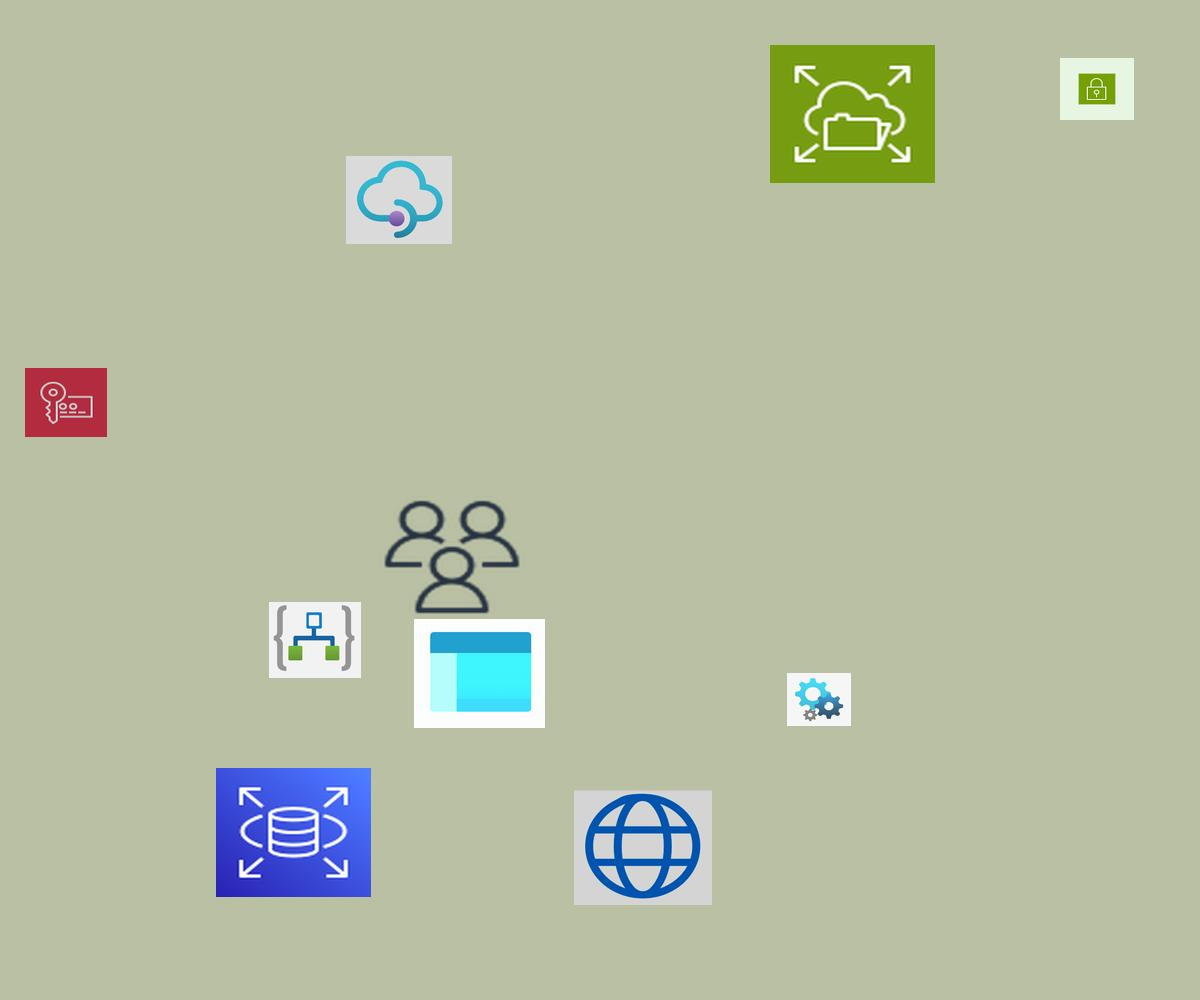AWS-EFS: (770, 45, 935, 183)
AWS-Key-Management-Service: (25, 368, 107, 437)
AWS-Public-subnet: (1060, 58, 1134, 120)
AWS-RDS: (216, 768, 371, 897)
AWS-Res_Users: (379, 496, 525, 618)
Azure_api: (787, 673, 851, 726)
Azure_api_gateway: (346, 156, 452, 244)
Azure_http: (574, 790, 712, 905)
Azure_integration-204-Logic-Apps: (269, 602, 361, 678)
Azure_management-portal: (414, 619, 545, 728)
